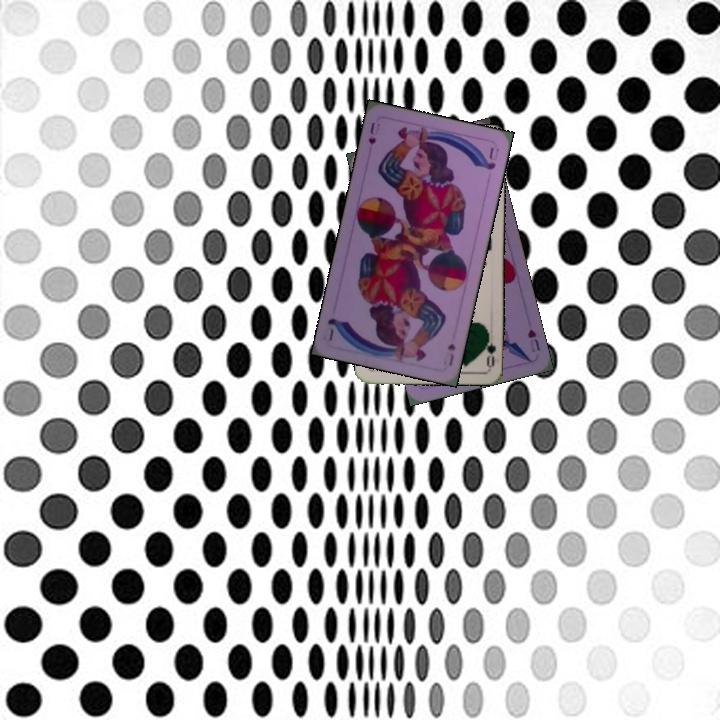GO: (479, 328, 498, 369)
HU: (524, 325, 543, 355)
SU: (364, 118, 382, 147), (444, 339, 458, 369)
